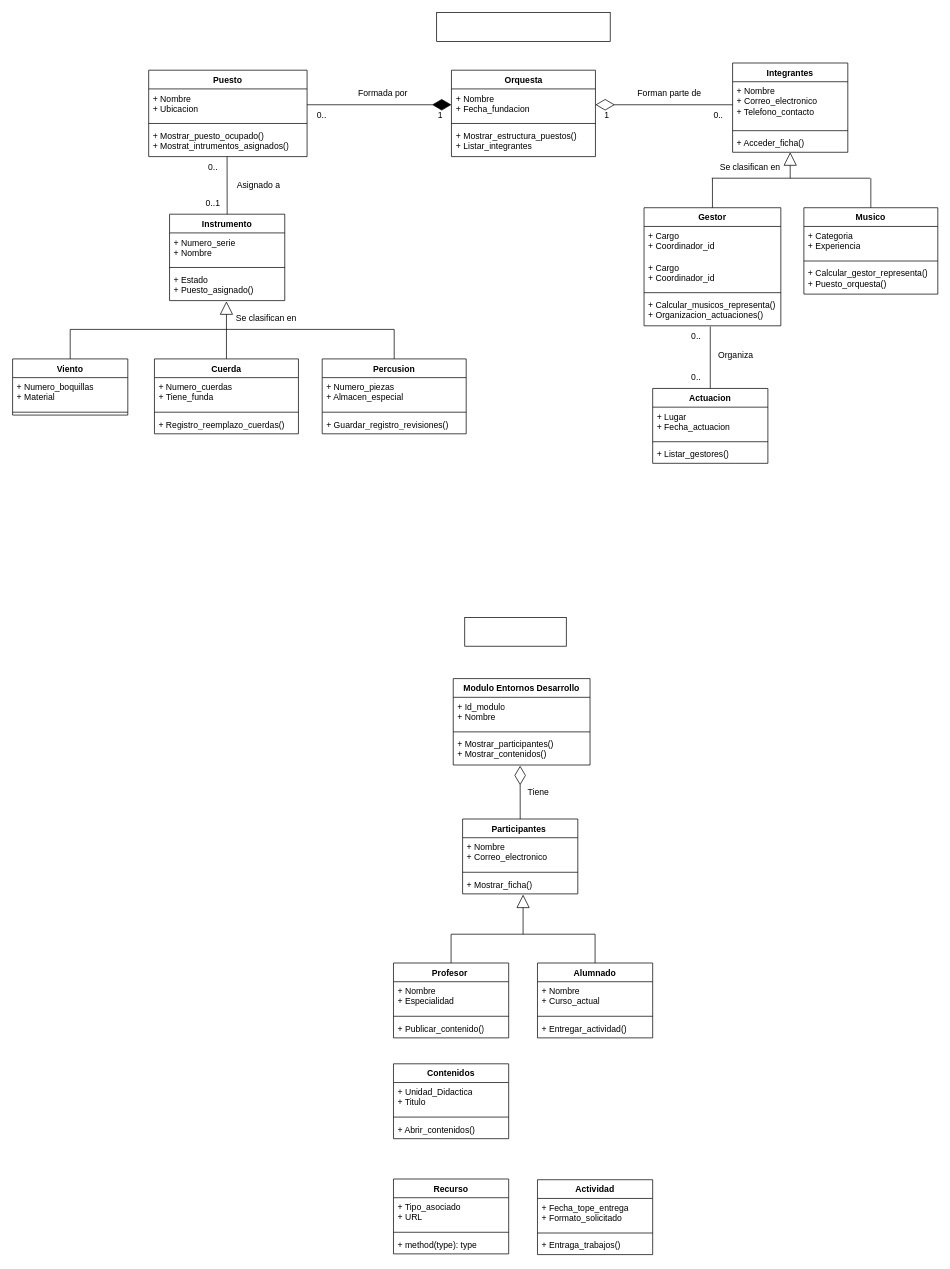
Some shapes in this 950 by 1269 pixel diagram are drawn without their labels. The shapes that lost their labels are listed below. From the top down, each one's centre as x and y in pixels, then its label:
At (x=523, y=26): "ORQUESTA MUNICIPAL DE VALENCIA".
At (x=515, y=631): "FLORIDA OBERTA".
